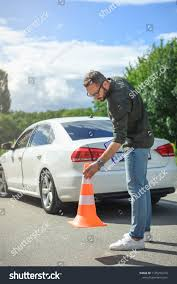car: (1, 116, 177, 213)
cone: (69, 164, 104, 232)
